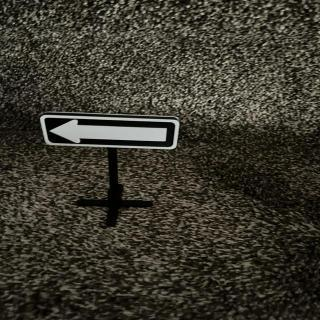sign_oneway_left: (41, 113, 182, 153)
